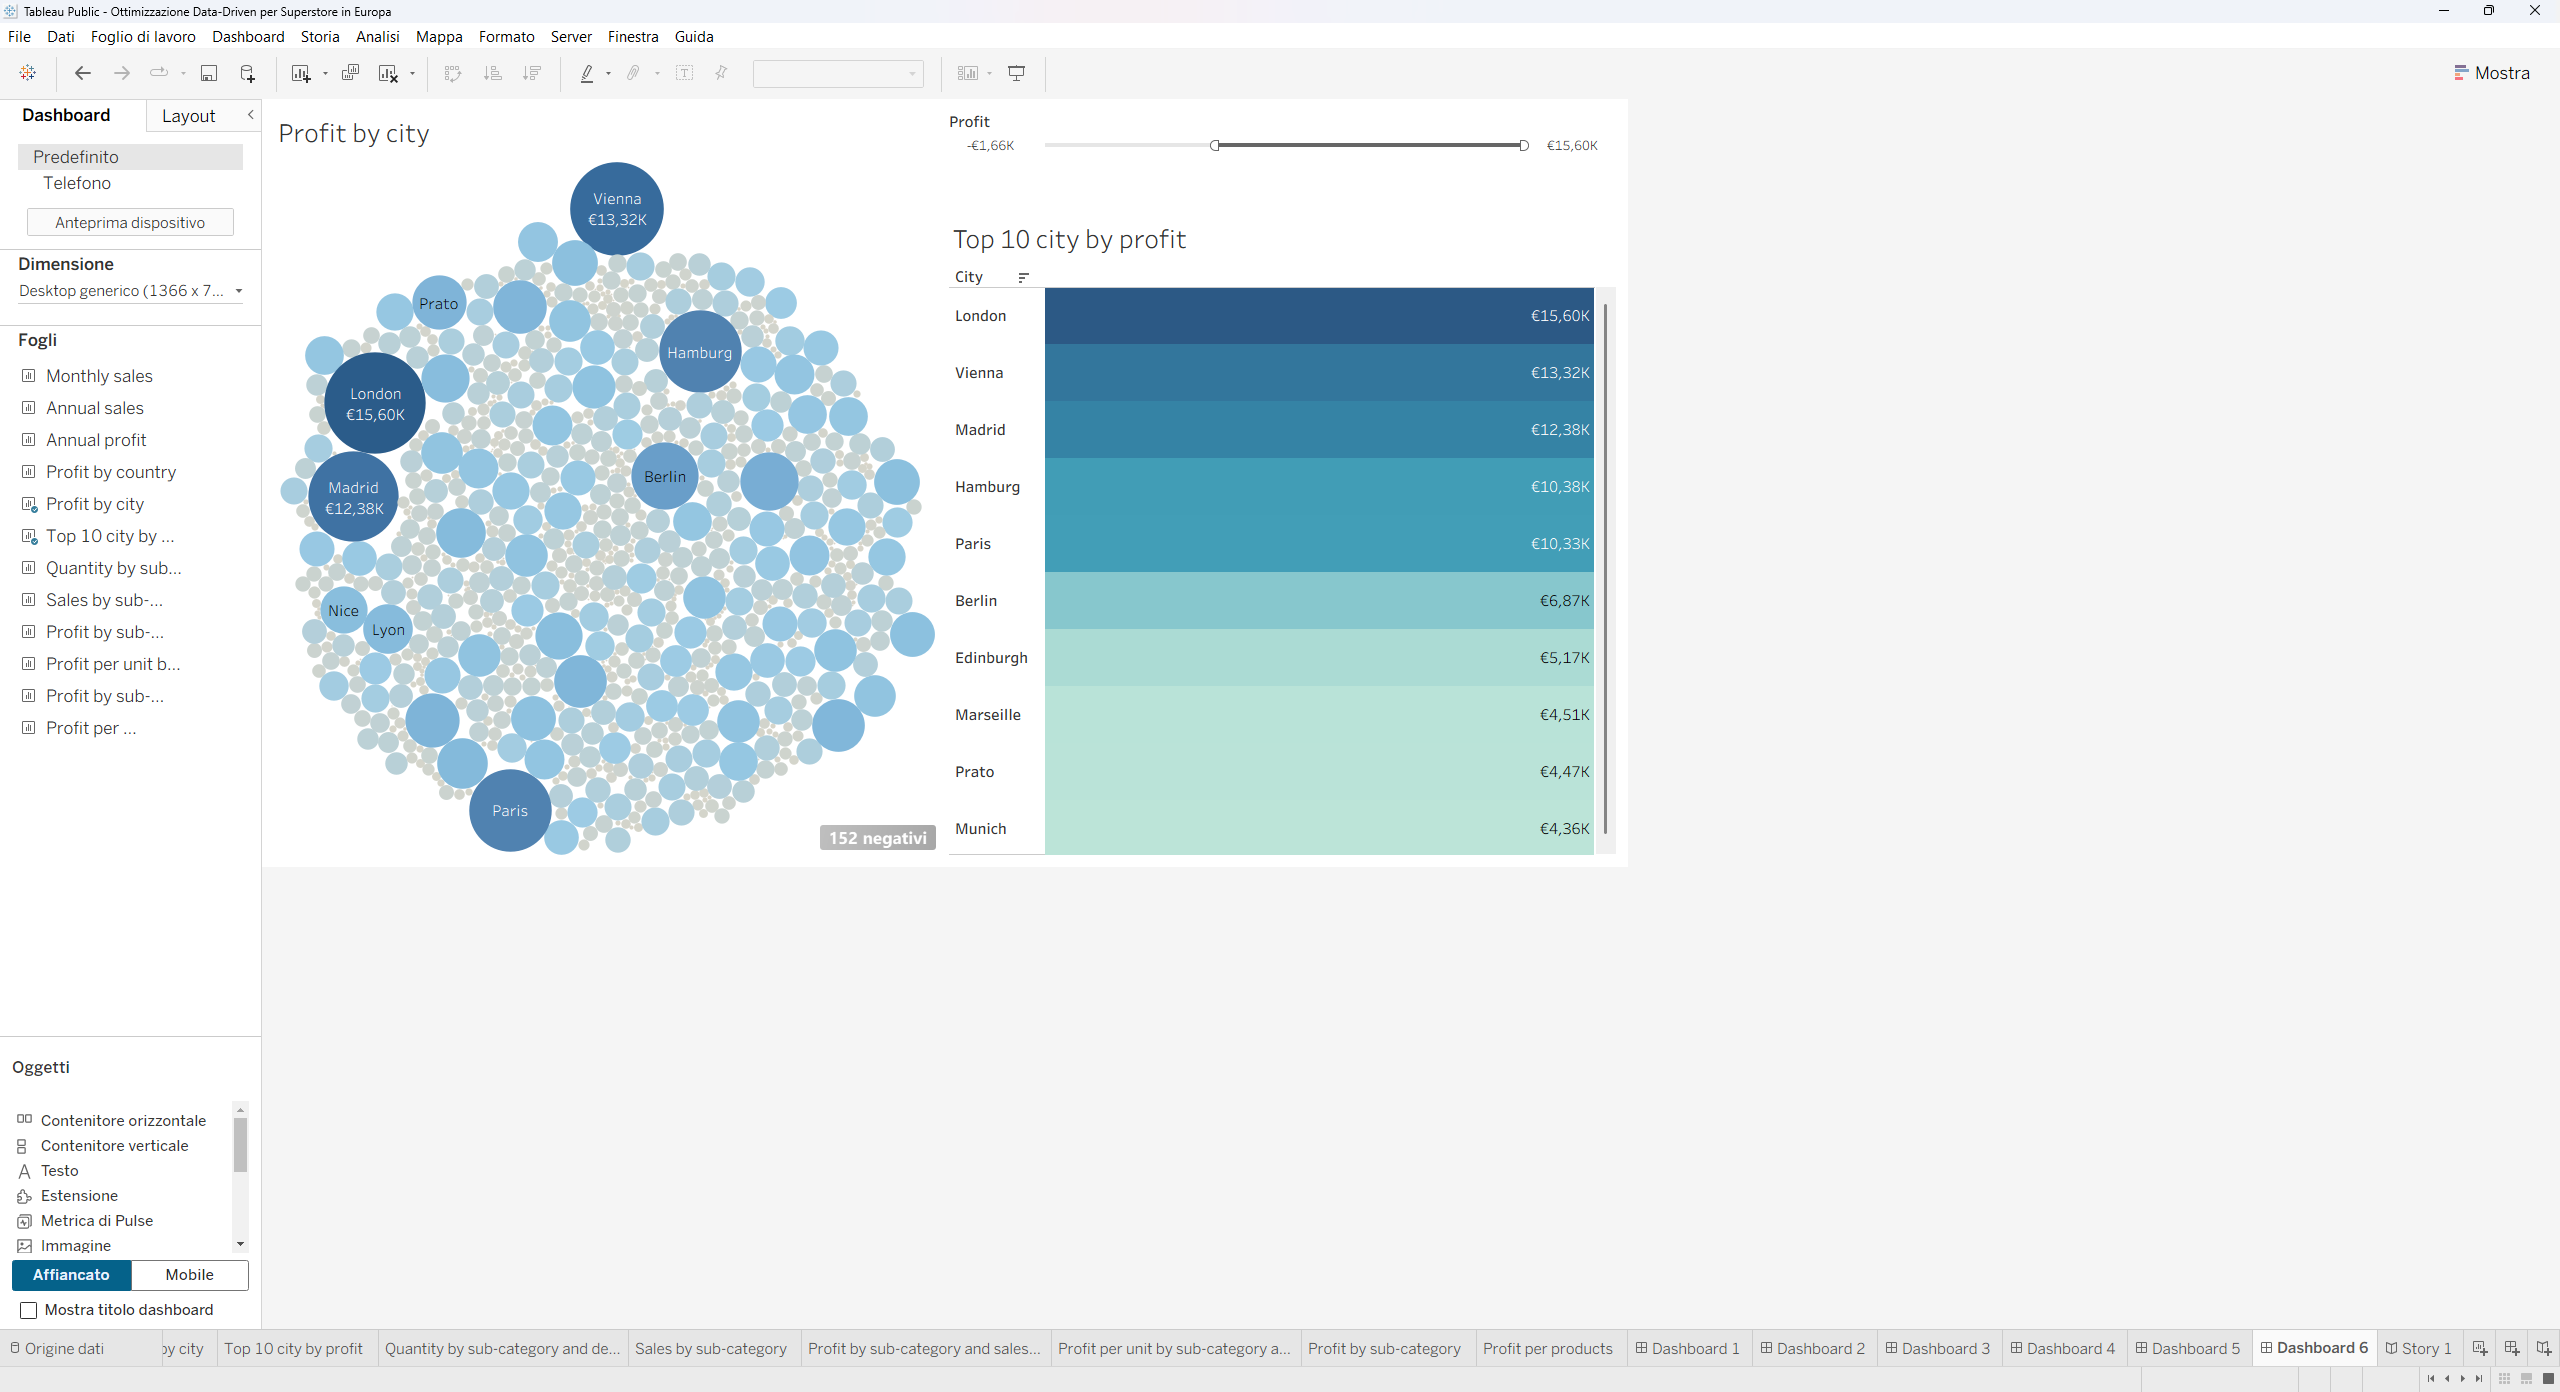

What the dashboard file says about the page in this screenshot:
{"tool":"tableau","page":{"name":"Dashboard 6","canvas":[1366,768],"ordinal":5},"visuals":[{"type":"worksheet","title":"Profit by city","mark":"Circle","box":[8,8,675,752]},{"type":"filter","title":"Profit by city","param":"[federated.1c0jzdt0tc08i71e6lhpu08ysxwe].[sum:Profit:qk]","box":[683,8,675,106]},{"type":"worksheet","title":"Top 10 city by profit","mark":"Square","rows":["City"],"box":[683,114,675,646]}]}

Visuals, with their boxes on the page's 1366x768 design canvas (x1, y1, x2, y2). These are canvas units, not pixel positions in the 2560x1392 screenshot, which may show the page scaled, cropped or inside an application window:
"Profit by city" worksheet (Circle marks): box=[8, 8, 683, 760]
"Profit by city" filter: box=[683, 8, 1358, 114]
"Top 10 city by profit" worksheet (Square marks): box=[683, 114, 1358, 760]
